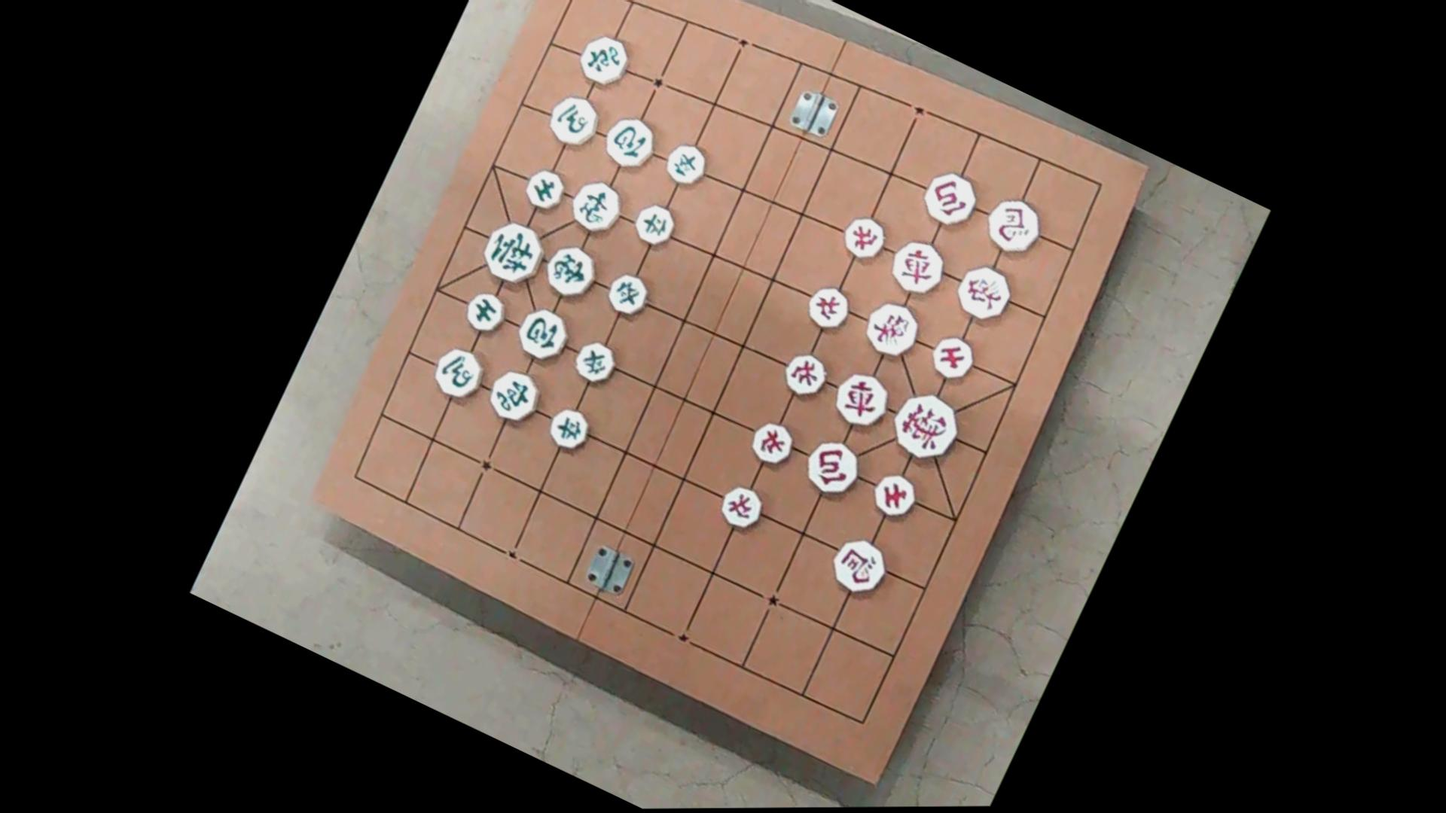cha_green: (479, 364, 545, 431), (572, 29, 633, 91)
cha_red: (881, 233, 950, 302), (825, 365, 894, 434)
jol_green: (658, 137, 711, 190), (541, 403, 593, 455), (568, 336, 620, 388), (600, 269, 652, 319), (628, 199, 679, 249)
jol_red: (743, 416, 798, 470), (801, 280, 855, 334), (713, 481, 767, 534), (836, 211, 889, 265), (777, 348, 831, 400)
ma_green: (426, 341, 489, 406), (541, 90, 604, 153)
ma_red: (977, 190, 1046, 260), (823, 531, 892, 600)
po_green: (508, 301, 574, 368), (596, 109, 660, 174)
po_red: (796, 434, 865, 502), (914, 164, 982, 233)
sa_green: (458, 286, 510, 338), (518, 163, 569, 215)
sa_red: (865, 468, 920, 522), (924, 331, 978, 384)
sang_green: (535, 238, 602, 305), (562, 173, 628, 239)
sang_red: (857, 295, 924, 363), (949, 259, 1016, 326)
wang_green: (472, 214, 551, 291)
wang_red: (882, 384, 966, 467)
